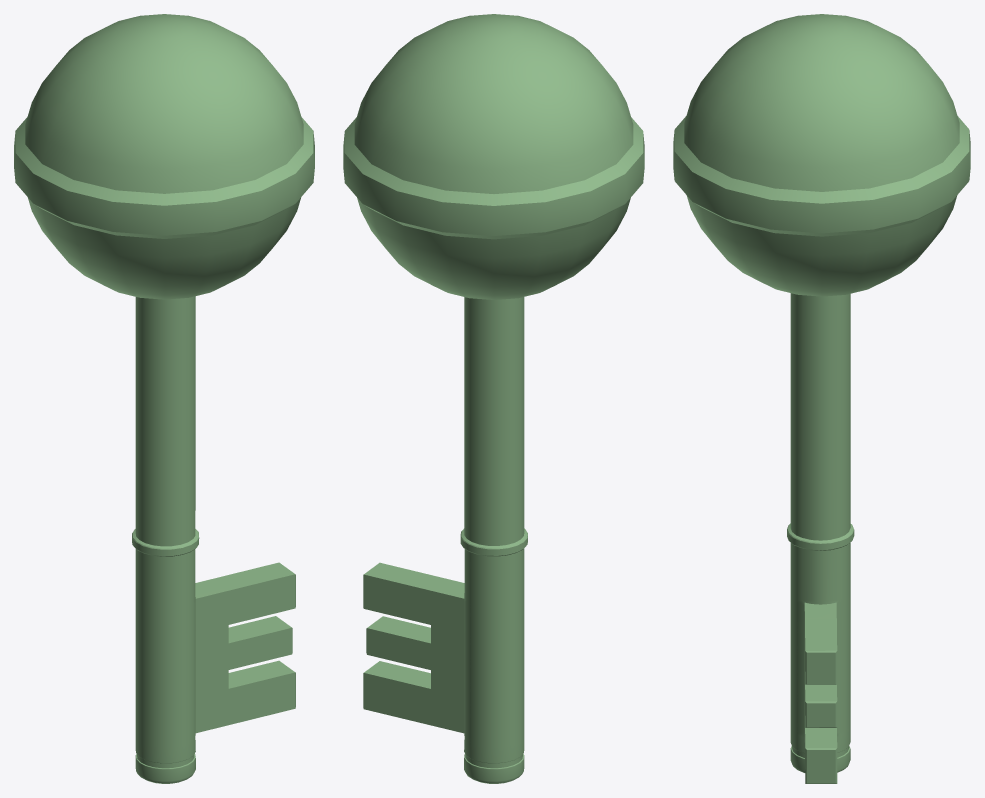
Rendered from sm_key.fbx.
The picture shows the model from 3 angles, left to right: view 1: azimuth 30°, elevation 25°; view 2: azimuth 150°, elevation 25°; view 3: azimuth 270°, elevation 25°; orthographic projection.
Visible parts, largest first — view 1: sm_key; view 2: sm_key; view 3: sm_key.
Boxes of the visible parts, x1=… form: sm_key: x1=14, y1=14, x2=314, y2=783; sm_key: x1=343, y1=14, x2=644, y2=783; sm_key: x1=673, y1=14, x2=970, y2=783.
Size of the model in its own units: 16.64 by 44.82 by 16.38.
